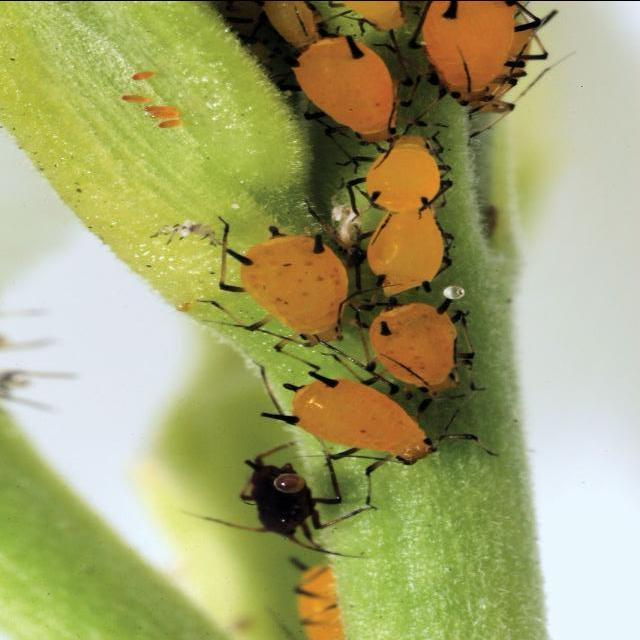aphid: (260, 372, 435, 462), (421, 0, 544, 112), (234, 234, 349, 345), (369, 297, 483, 395), (292, 35, 396, 140), (368, 209, 444, 295), (368, 135, 440, 211), (263, 1, 320, 51)
